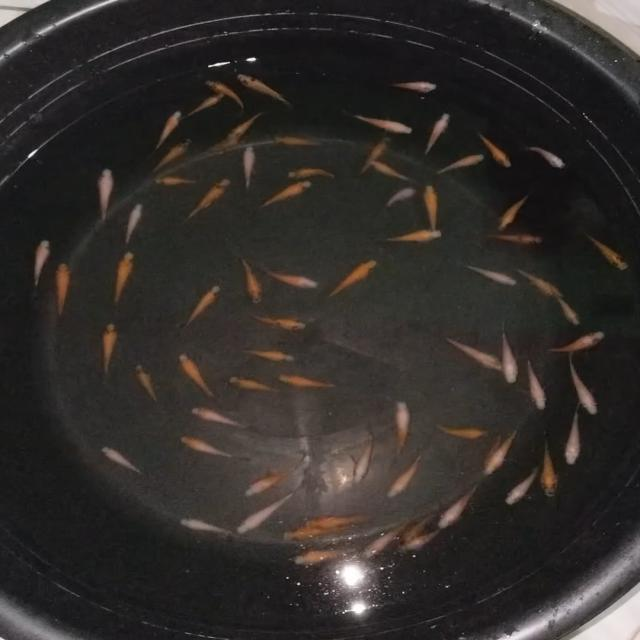nila: (232, 488, 301, 536), (323, 254, 382, 300), (438, 333, 504, 373), (177, 177, 232, 222), (244, 456, 300, 500), (177, 282, 223, 335), (568, 349, 602, 416), (235, 73, 296, 109), (144, 136, 194, 179), (582, 230, 632, 273), (177, 349, 217, 402), (342, 108, 416, 136), (438, 482, 480, 530), (484, 426, 522, 478), (386, 452, 424, 502), (98, 440, 148, 478), (256, 178, 314, 210), (259, 265, 321, 294), (176, 434, 246, 459), (456, 260, 518, 288), (562, 399, 587, 468), (476, 129, 516, 172), (503, 466, 546, 506), (542, 328, 608, 354), (497, 312, 519, 388), (364, 520, 408, 558), (186, 406, 250, 432), (200, 78, 248, 112), (512, 266, 562, 298), (246, 311, 314, 334), (189, 135, 251, 160), (496, 192, 531, 236), (296, 512, 376, 531), (224, 372, 286, 396), (376, 183, 421, 216), (150, 108, 182, 154), (354, 134, 389, 176), (524, 352, 548, 413), (110, 249, 134, 309), (423, 110, 451, 160), (273, 528, 359, 544), (52, 260, 74, 322), (550, 286, 582, 327), (401, 510, 442, 542), (282, 548, 364, 564), (238, 254, 263, 306), (427, 418, 486, 440), (366, 156, 414, 183), (184, 89, 227, 119), (392, 398, 414, 456), (174, 516, 237, 536), (523, 140, 566, 169), (97, 165, 116, 230), (134, 360, 162, 404), (274, 371, 338, 390), (225, 111, 264, 142), (351, 432, 375, 482), (483, 228, 542, 248), (396, 529, 446, 552), (30, 237, 51, 291), (436, 152, 487, 174), (270, 131, 326, 151), (101, 320, 121, 376), (541, 438, 559, 498), (280, 164, 342, 180), (238, 346, 300, 362), (240, 140, 258, 194), (122, 200, 144, 244), (381, 228, 446, 242), (387, 78, 439, 94), (483, 431, 506, 467), (426, 182, 440, 235), (147, 173, 205, 183)
